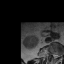CCS_normal: (54, 52, 55, 61)
LFS_normal: (58, 53, 60, 59)
LLS_normal: (55, 52, 57, 60)
RFS_severe_stenosis: (50, 51, 52, 57)
RLS_stenosis: (52, 52, 54, 59)
